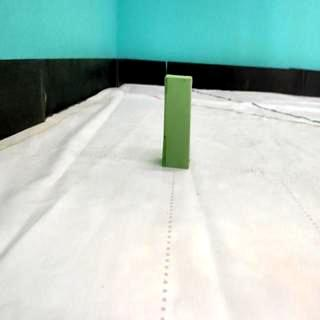greenbox: (163, 74, 194, 169)
